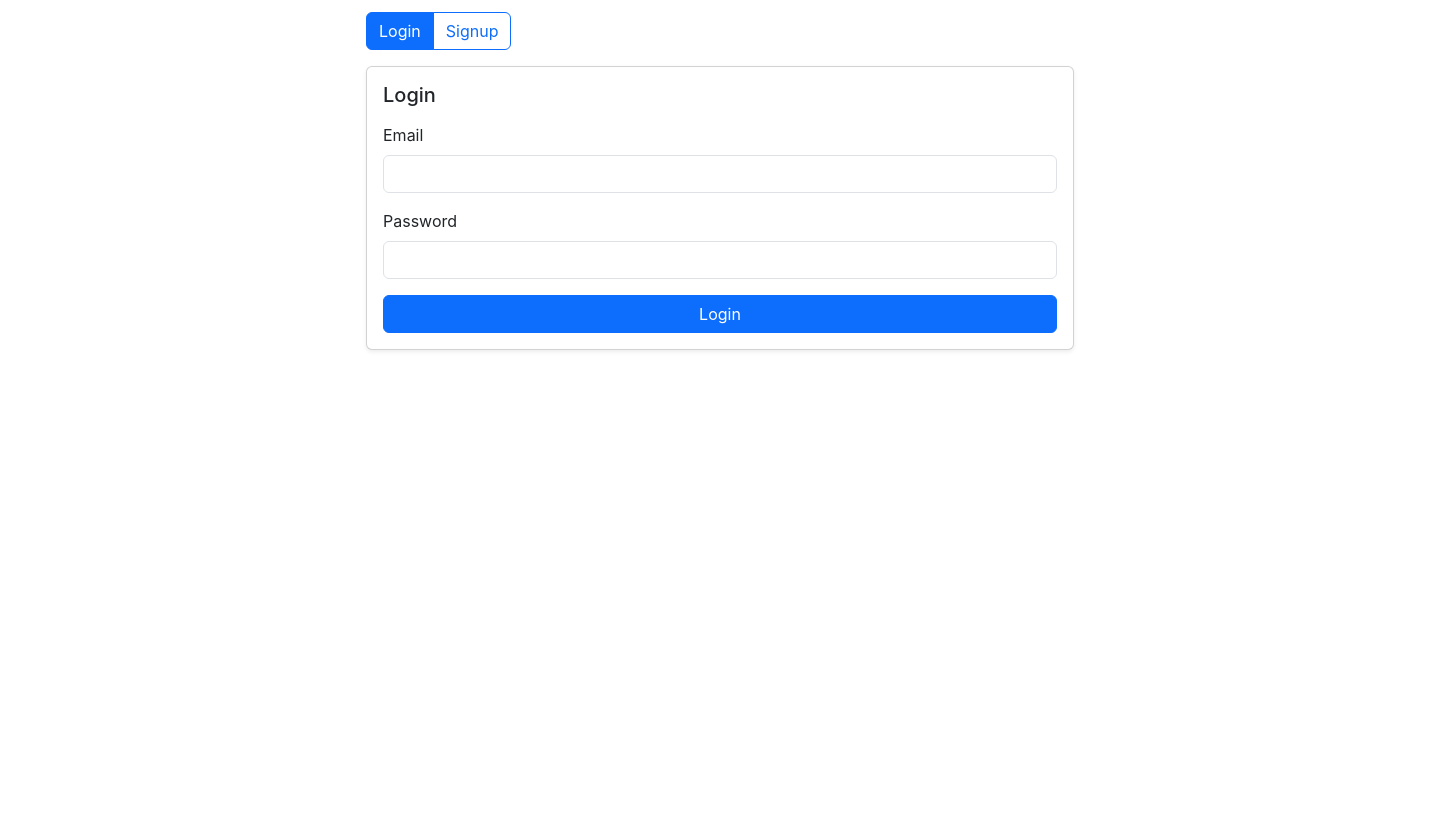
Test: AuthPage › shows signup error and stays on signup mode on failure
Click the button "Signup". click: [472, 31]
box: [433,12,512,50]
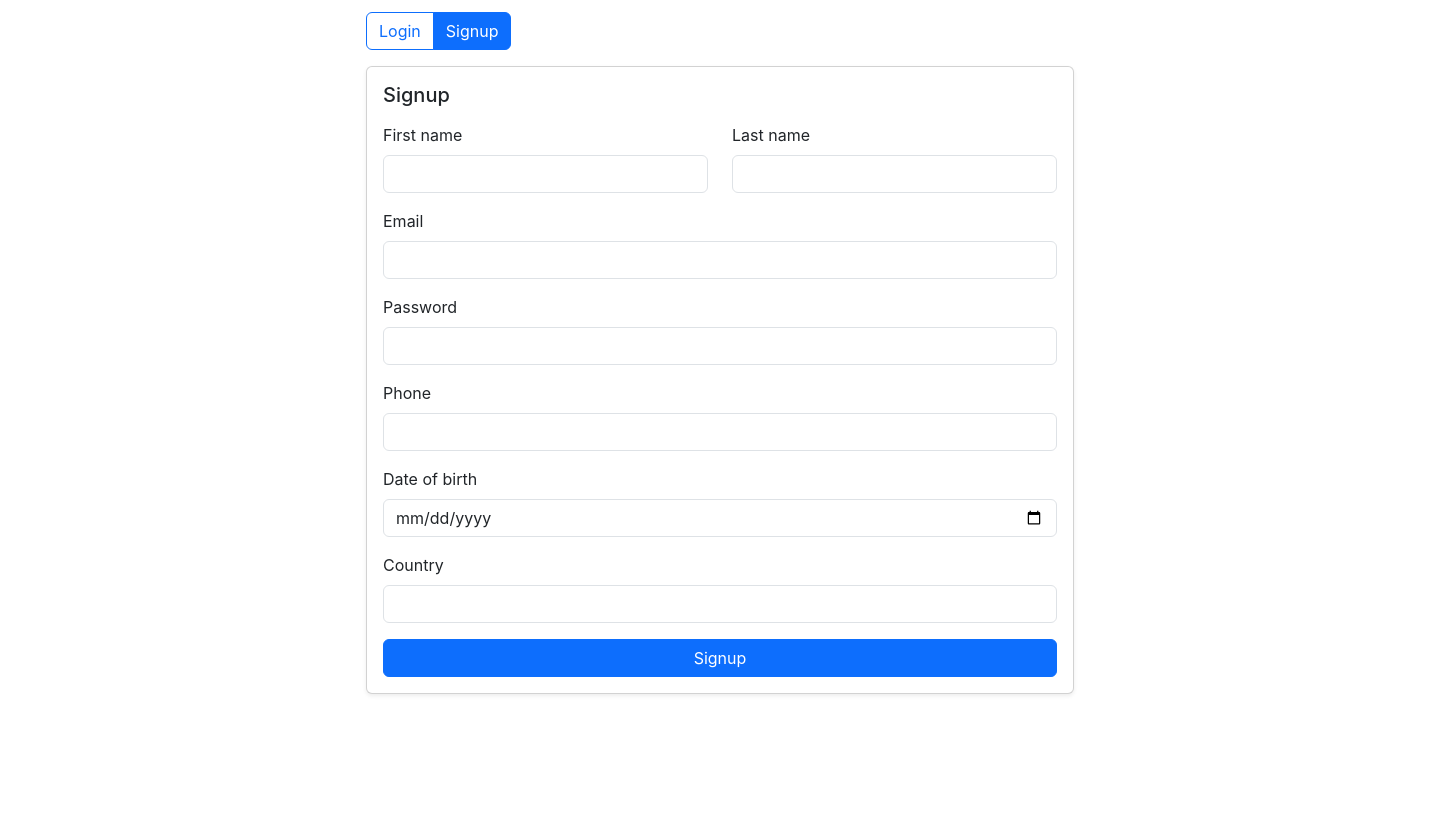
Expected: the field named "fname" below "First name" is shown
Type "Jane" into the field named "fname" below "First name". click: [546, 174]
box: [383,155,708,193]
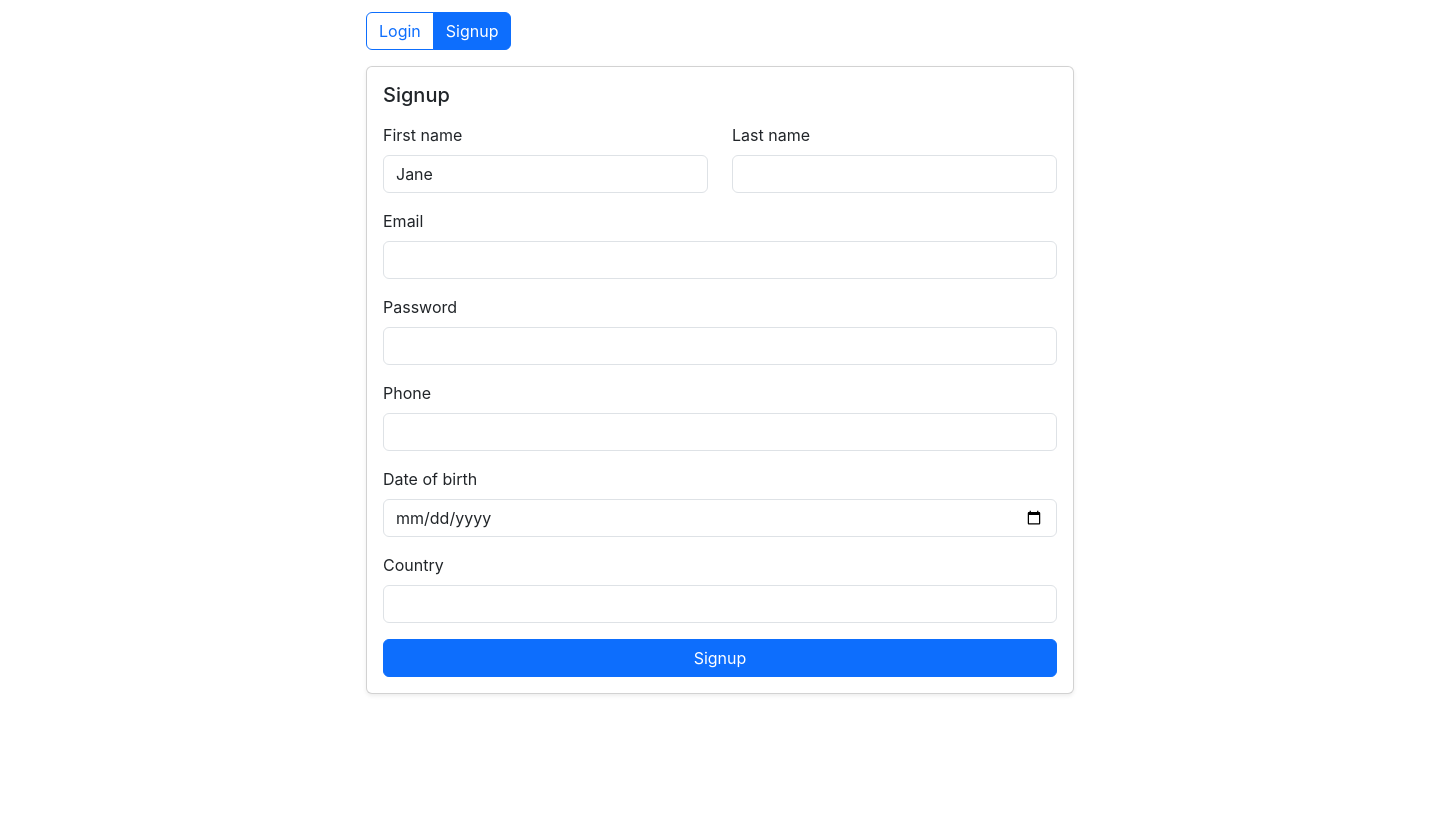
Expected: the field named "lname" below "Last name" is shown
Type "Doe" into the field named "lname" below "Last name". click: [894, 174]
box: [732,155,1057,193]
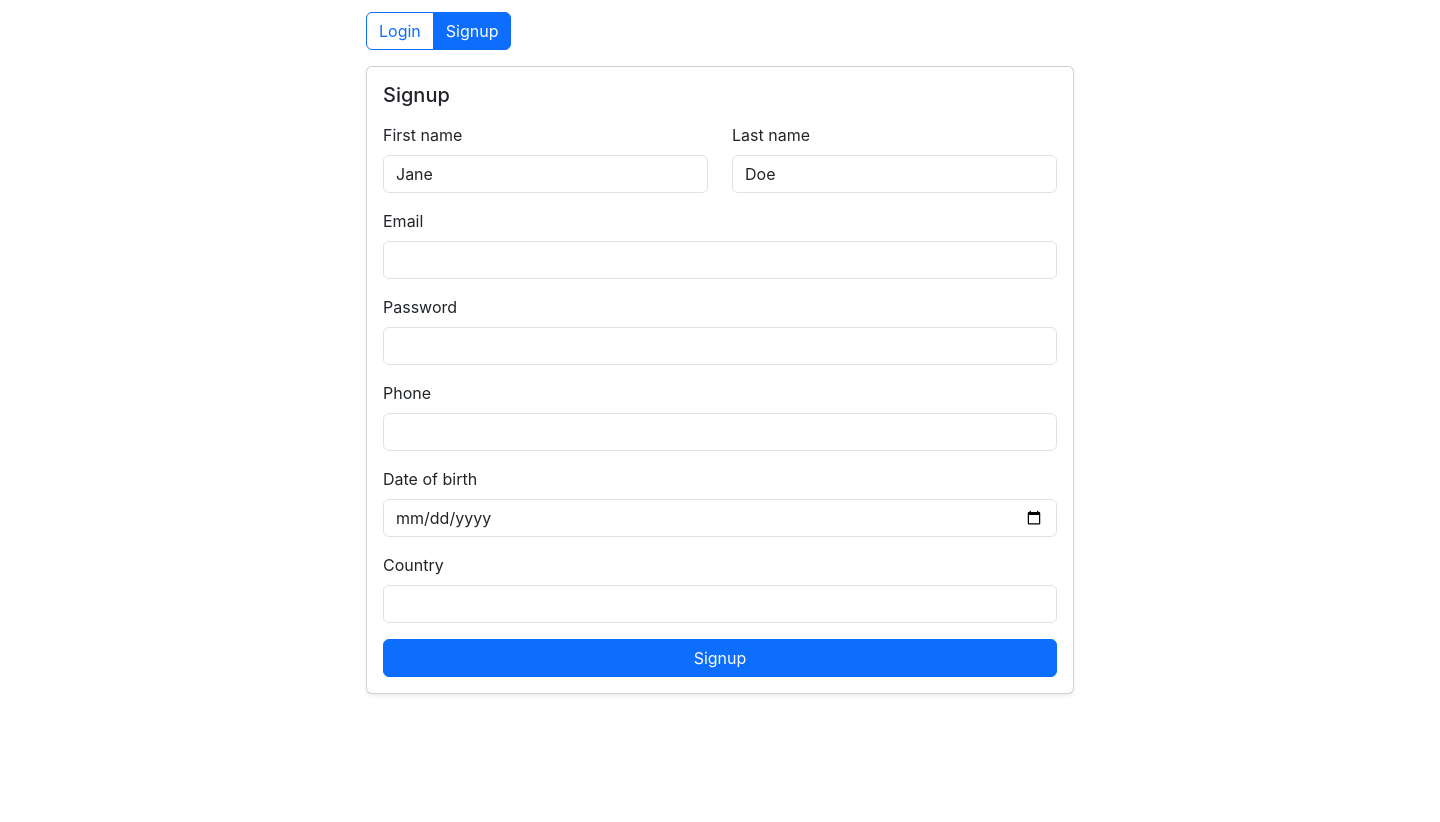
Type "jane@example.com" into the field named "email" below "Email". click: [720, 260]
box: [383,241,1057,279]
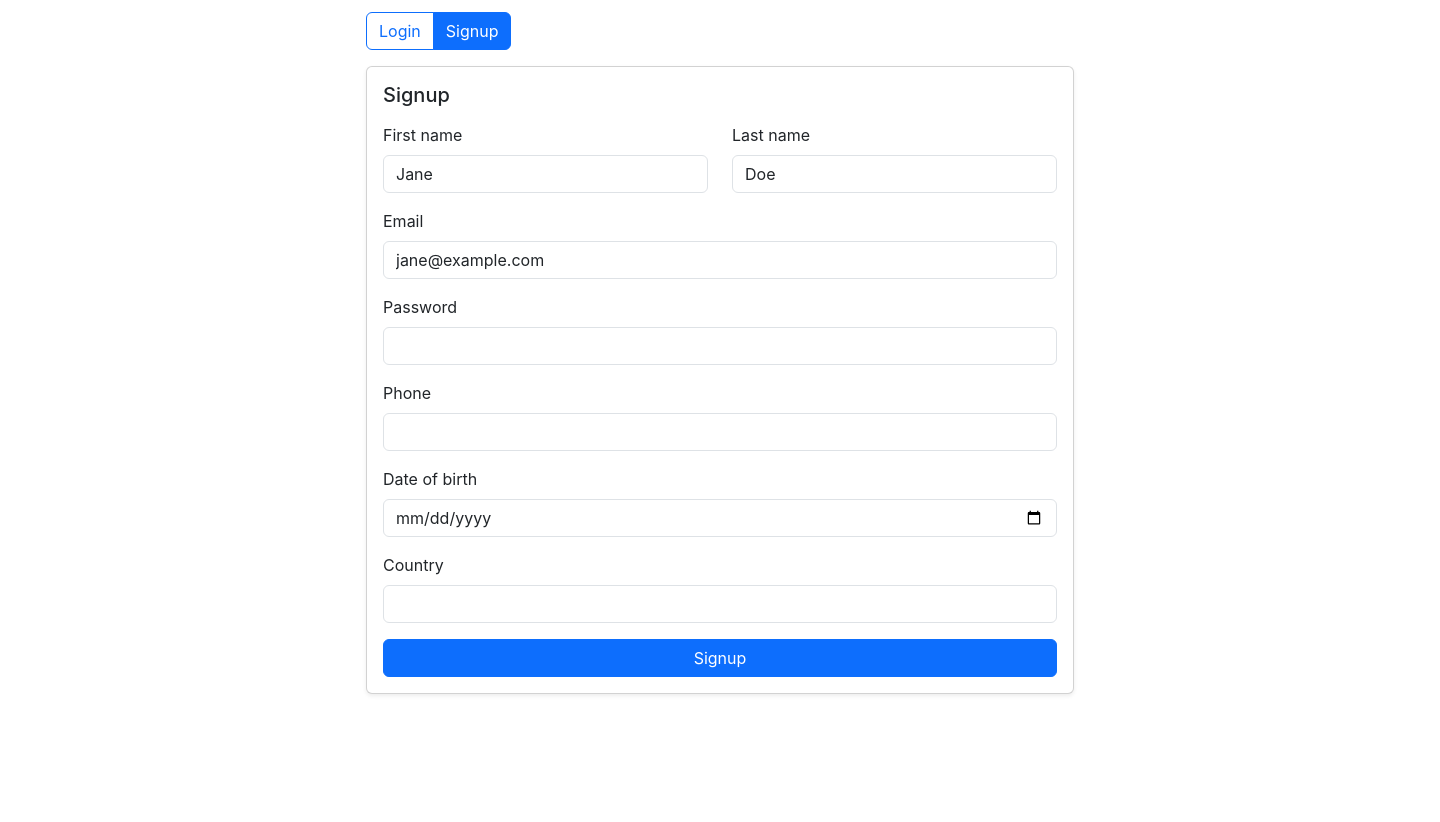
Type "secret" into the password field named "password". click: [720, 346]
box: [383,327,1057,365]
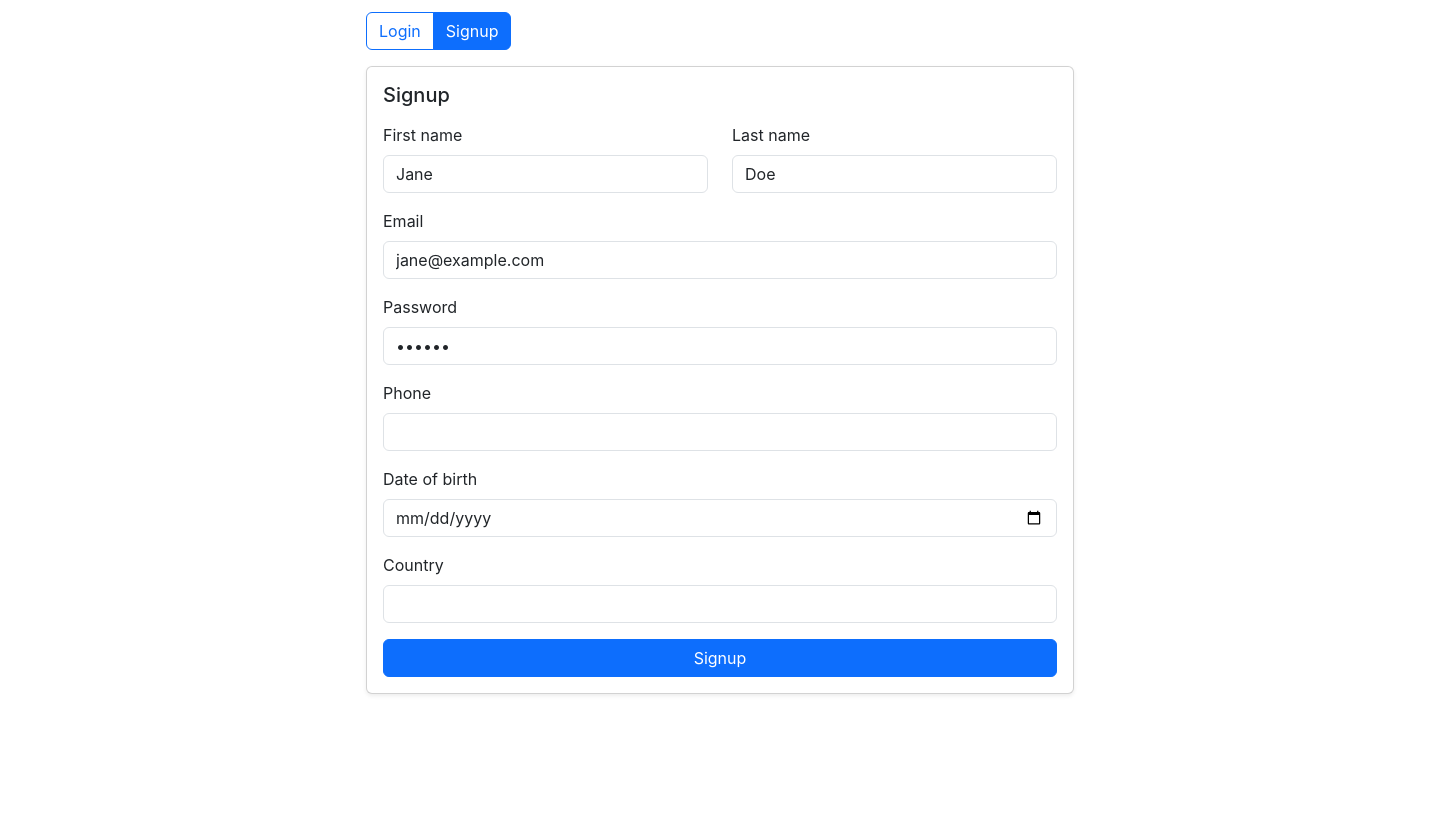
Submit the form, box [366,66,1074,694]
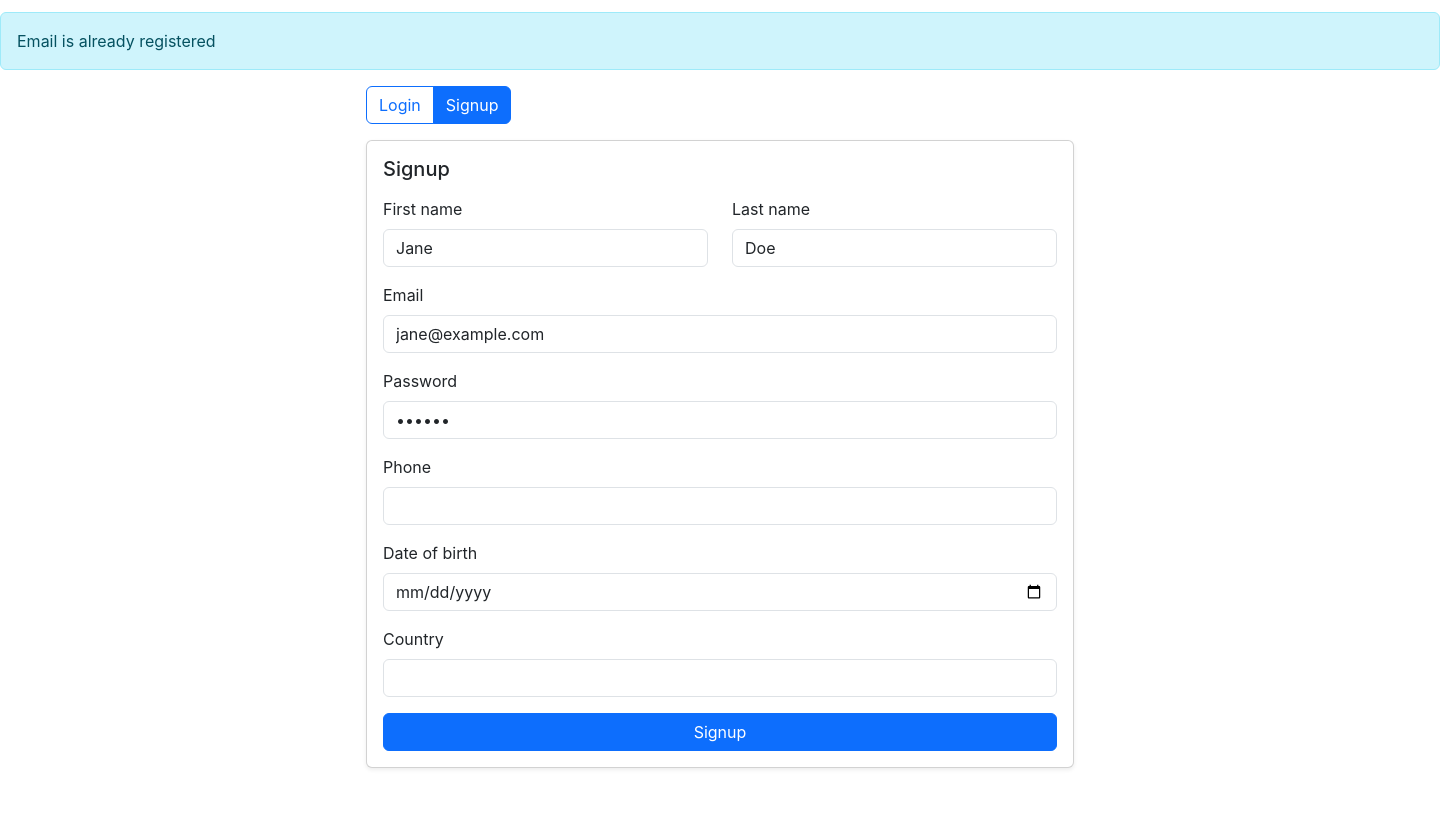
Expected: the message reads "Email is already registered", [17,31,216,51]
